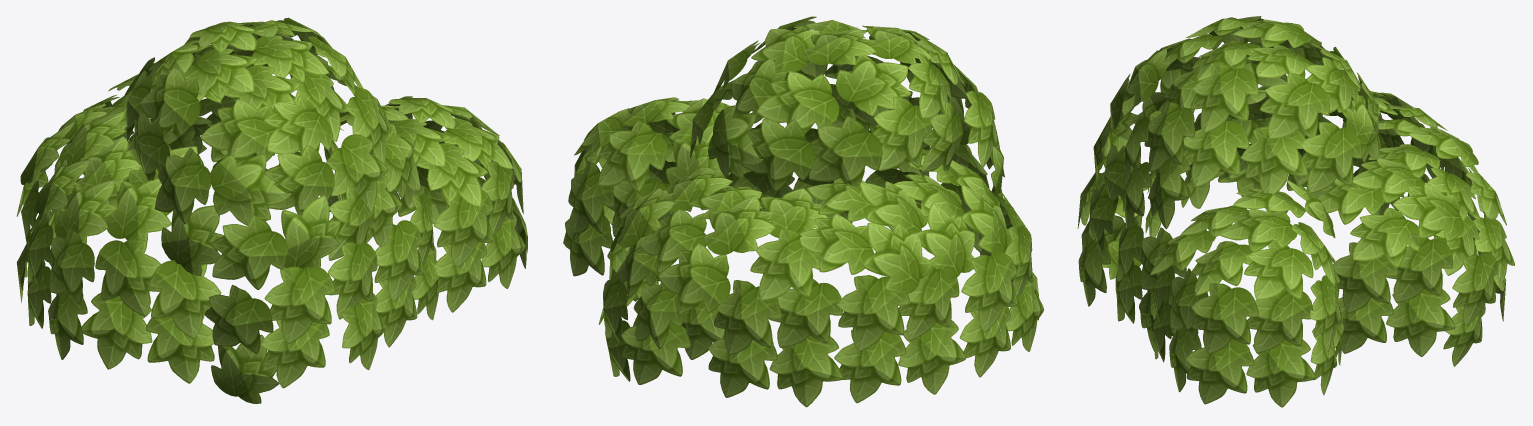
File: Maple Leaves #2 double sided.fbx
The picture shows the model from 3 angles, left to right: view 1: azimuth 30°, elevation 25°; view 2: azimuth 150°, elevation 25°; view 3: azimuth 270°, elevation 25°; orthographic projection. The views are drawn at different scales.
Parts seen in each view (by area): view 1: Tree #004; view 2: Tree #004; view 3: Tree #004.
Part boxes in pixels (bbox=[...]): Tree #004: bbox=[16, 17, 527, 403]; Tree #004: bbox=[563, 16, 1043, 407]; Tree #004: bbox=[1077, 16, 1514, 407].
Size of the model in its own units: 378 by 246 by 341.
